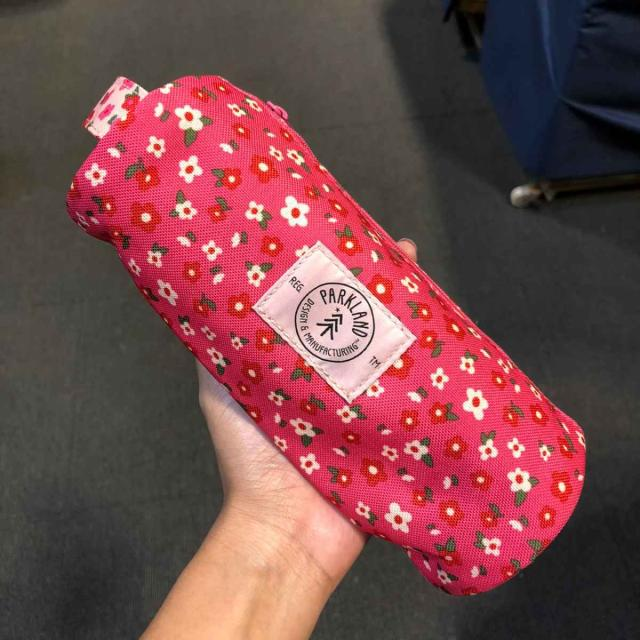handbag: (54, 78, 593, 615)
